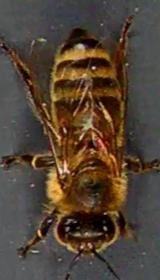varroa_mite: (92, 128, 111, 153)
